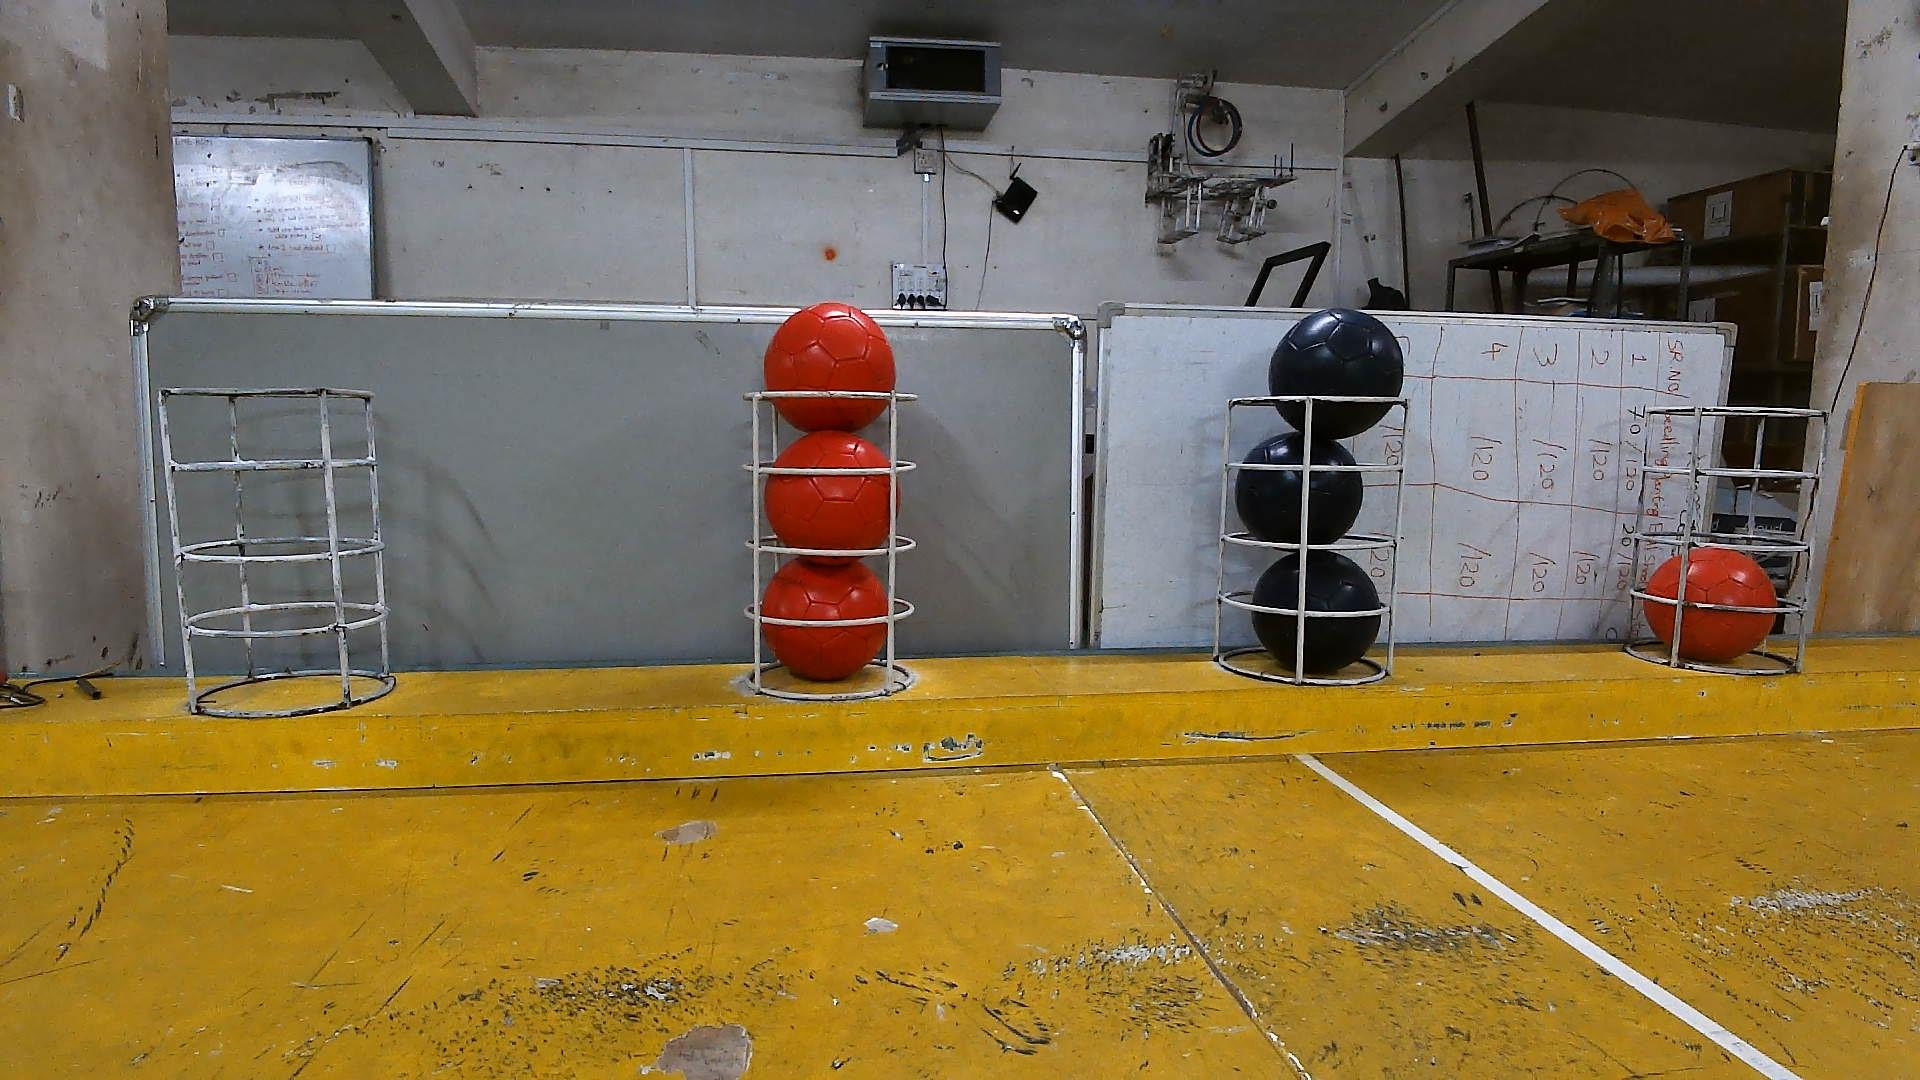dhoka: (1267, 307, 1406, 439), (1253, 547, 1383, 675), (1234, 431, 1365, 546)
laale: (760, 429, 898, 555), (765, 301, 897, 431), (757, 559, 885, 683), (1648, 549, 1784, 665)
